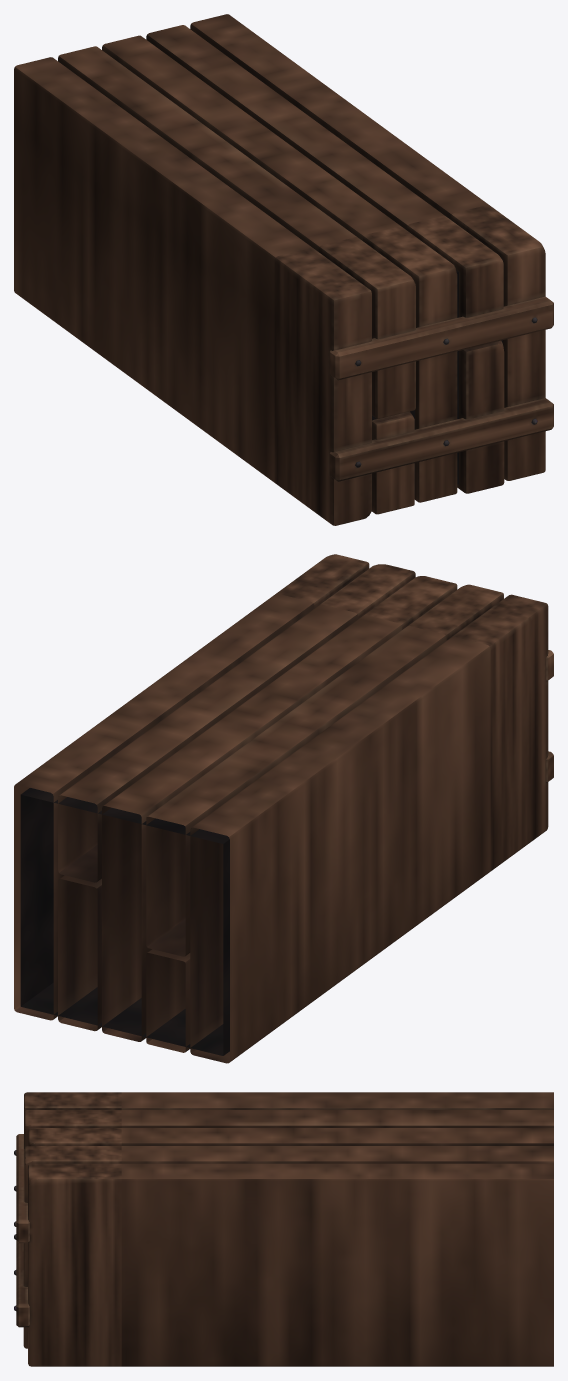
The model's file is StiltVillage_Fill_C.fbx.
The picture shows the model from 3 angles, top to bottom: view 1: azimuth 30°, elevation 25°; view 2: azimuth 150°, elevation 25°; view 3: azimuth 270°, elevation 25°; orthographic projection. The views are drawn at different scales.
Parts seen in each view (by area): view 1: StiltVillage_Fill_C; view 2: StiltVillage_Fill_C; view 3: StiltVillage_Fill_C.
Boxes of the visible parts, bbox=[...] form: StiltVillage_Fill_C: bbox=[14, 14, 553, 525]; StiltVillage_Fill_C: bbox=[14, 554, 553, 1063]; StiltVillage_Fill_C: bbox=[14, 1092, 553, 1366].
Bounding box in the file's own units: 0.992 × 0.988 × 2.56.
